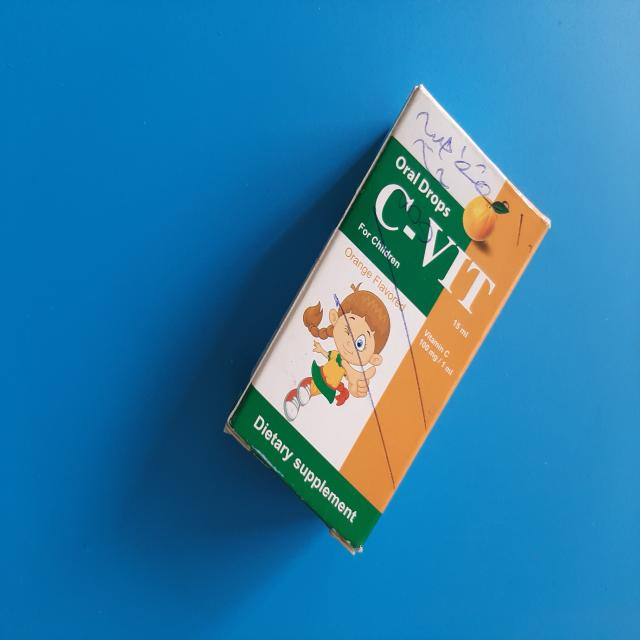C-VIT: (217, 74, 555, 574)
